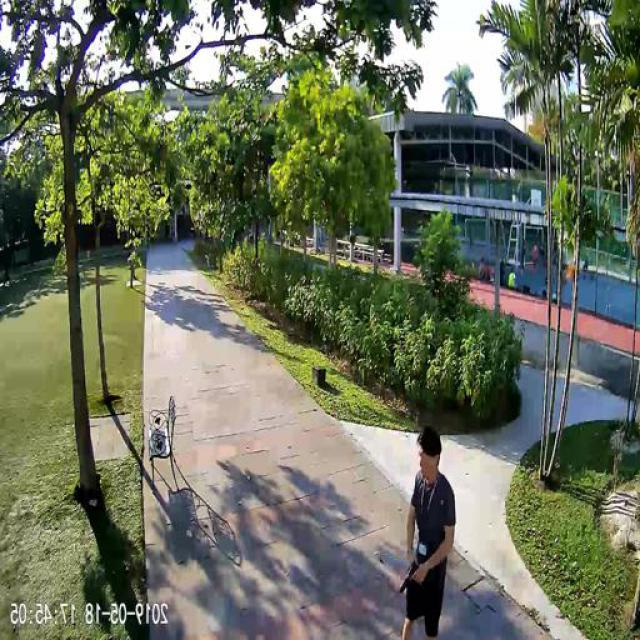Gun: (401, 558, 421, 592)
